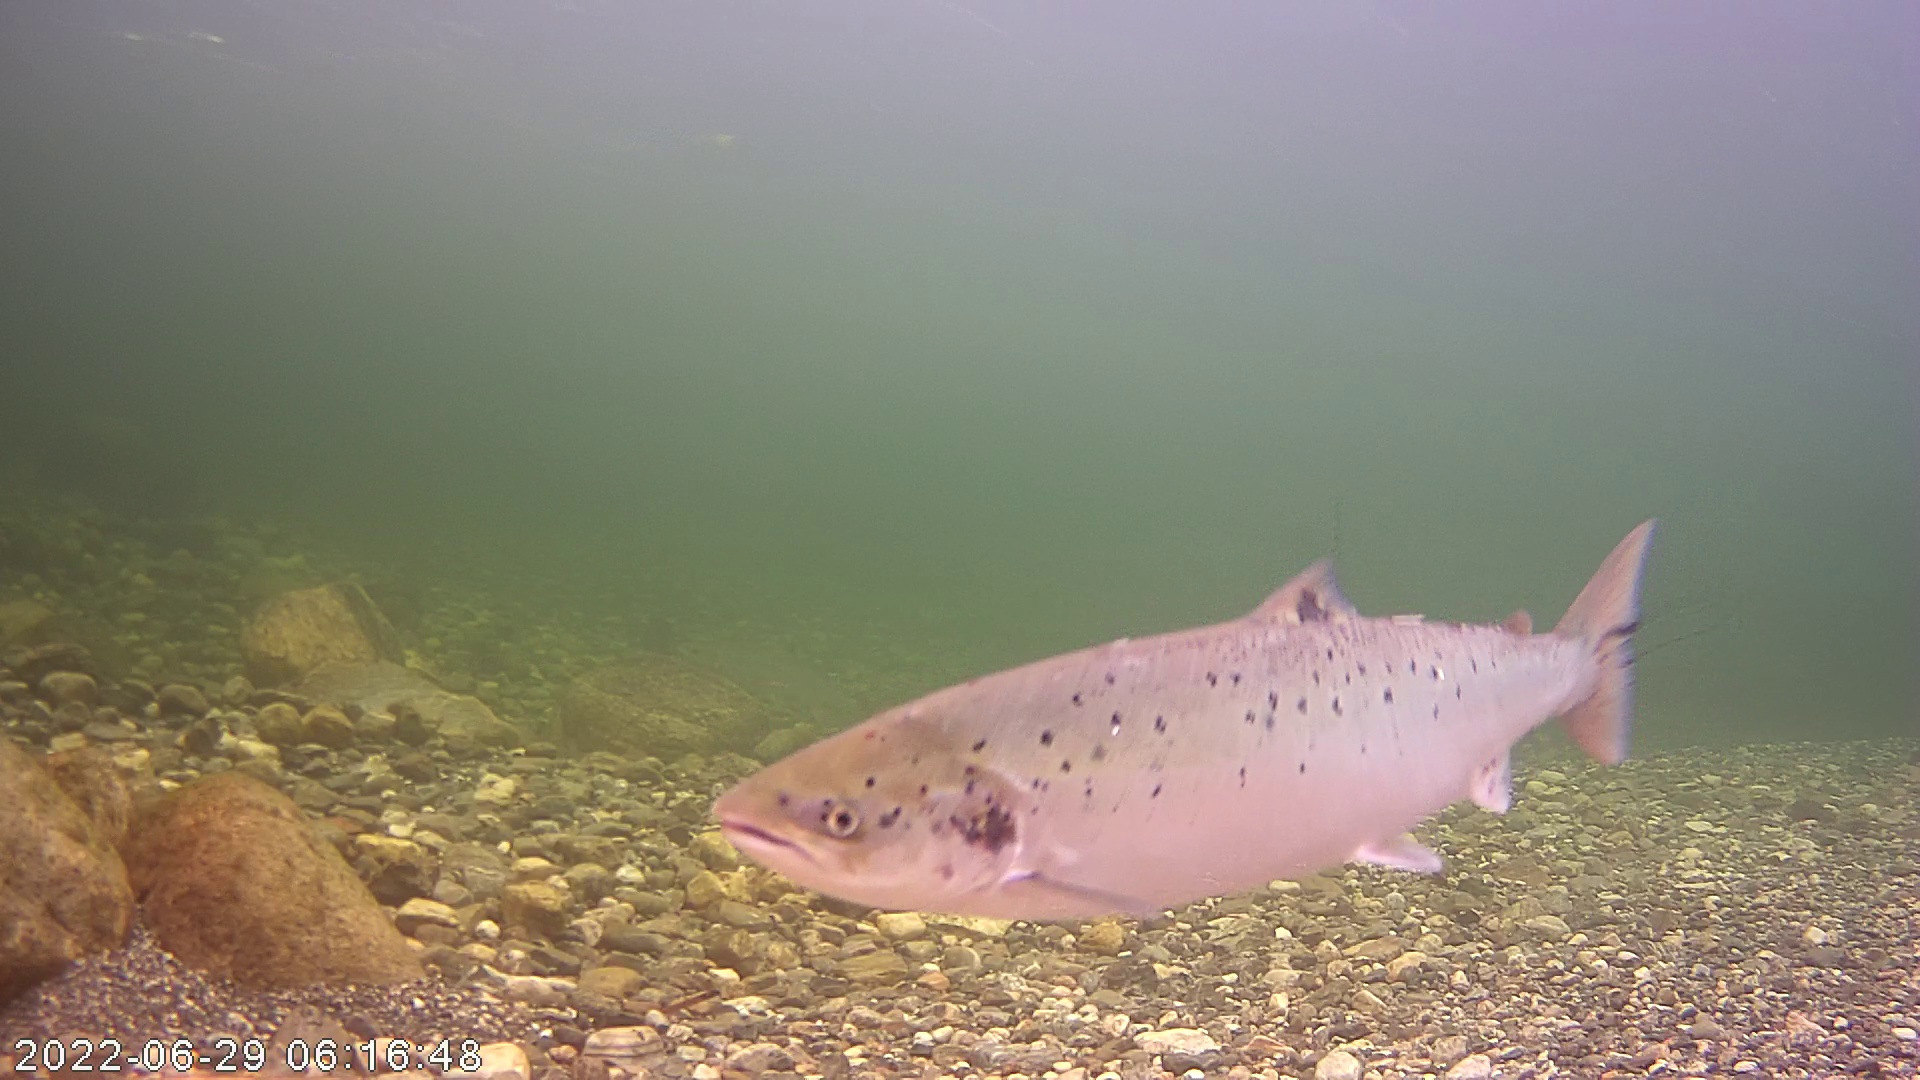salmon: (729, 447, 1660, 924)
